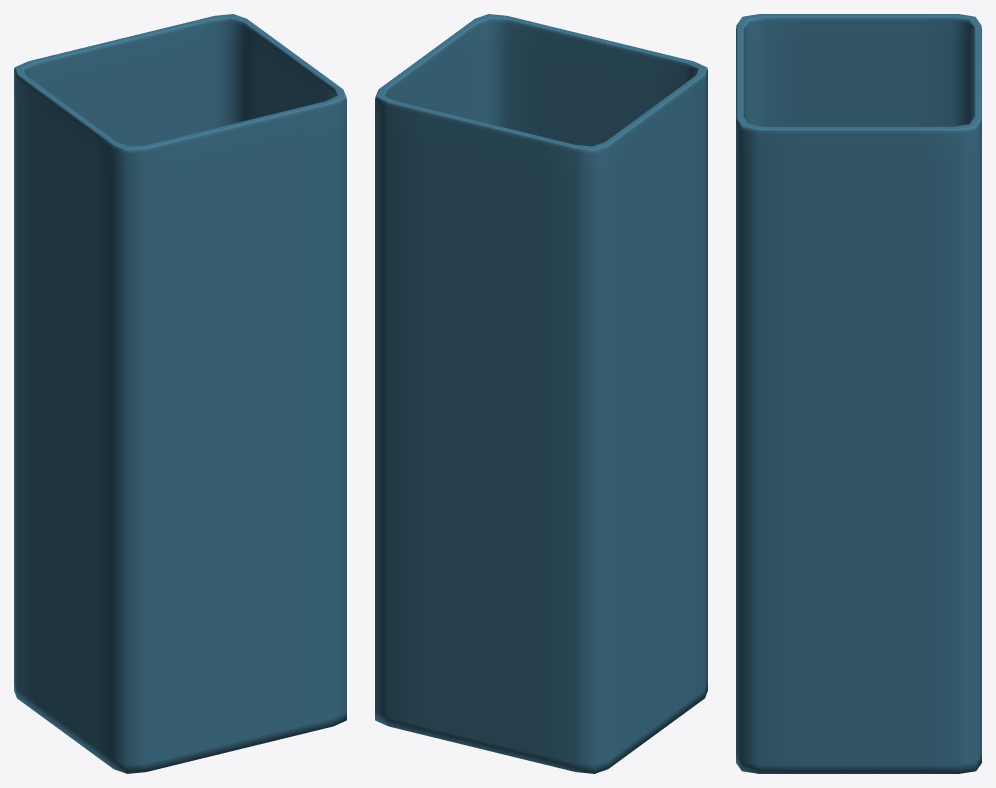
Rendered from glass.fbx.
The picture shows the model from 3 angles, left to right: view 1: azimuth 30°, elevation 25°; view 2: azimuth 150°, elevation 25°; view 3: azimuth 270°, elevation 25°; orthographic projection. The views are drawn at different scales.
Parts seen in each view (by area): view 1: Box001; view 2: Box001; view 3: Box001.
Part boxes in pixels (bbox=[...]): Box001: bbox=[14, 14, 346, 773]; Box001: bbox=[375, 14, 707, 773]; Box001: bbox=[736, 14, 981, 773].
Bounding box in the file's own units: 47.94 × 124 × 42.9.
